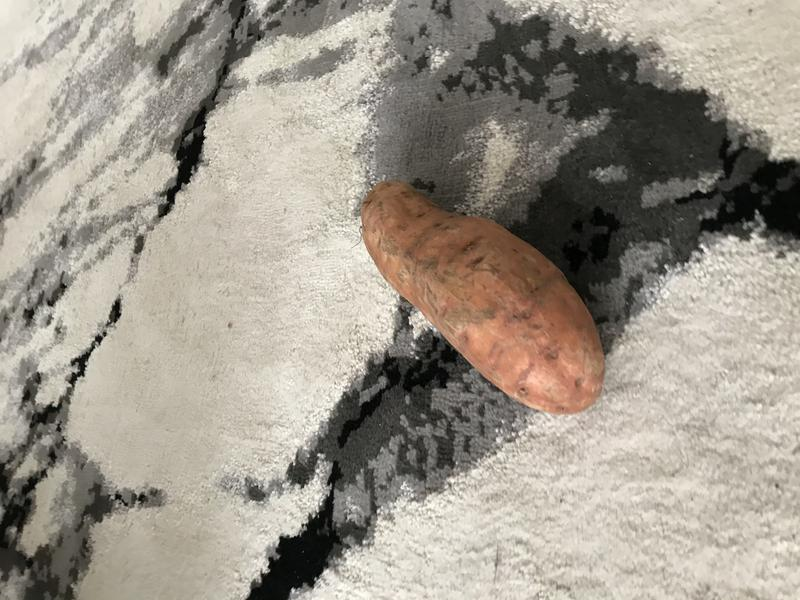sweet_potato: (347, 163, 612, 432)
